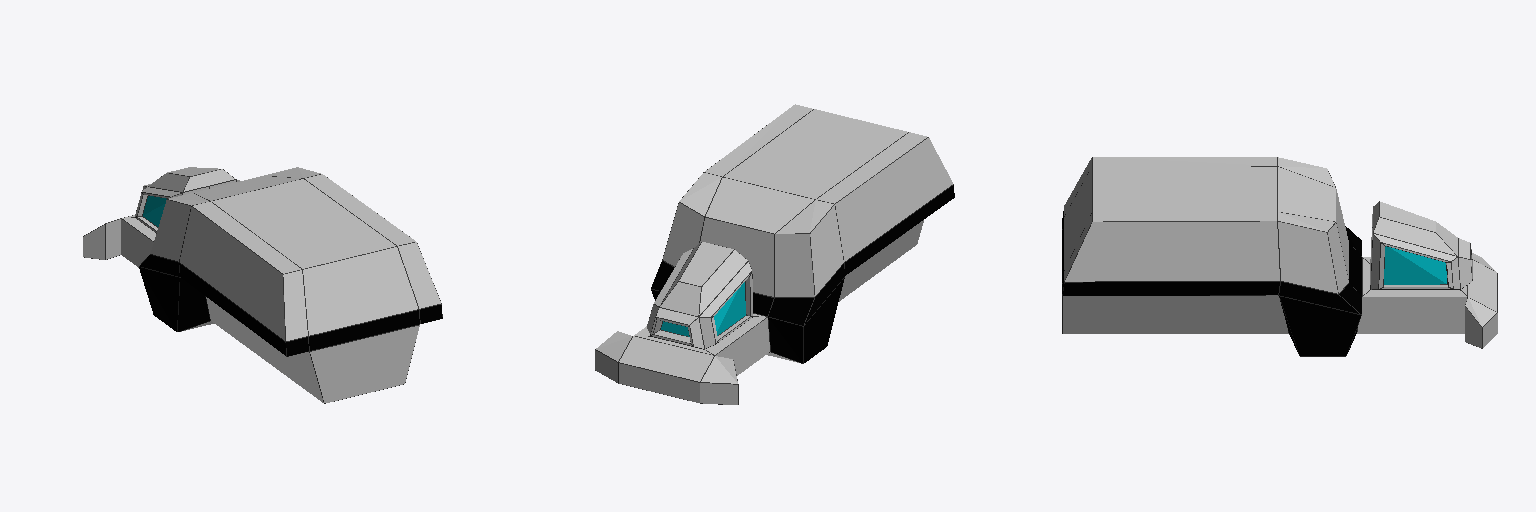
The model's file is truck_1_1.obj.
3 views of the same model, side by side, from view 1: azimuth 30°, elevation 25°; view 2: azimuth 150°, elevation 25°; view 3: azimuth 270°, elevation 25° (orthographic).
Visible parts, largest first — view 1: Cube; view 2: Cube; view 3: Cube.
Boxes of the visible parts, box(x1,y1,x2,y2) form: Cube: box(83, 167, 442, 403); Cube: box(595, 104, 954, 404); Cube: box(1062, 157, 1497, 356).
Size of the model in its own units: 7.15 by 5.86 by 17.25.